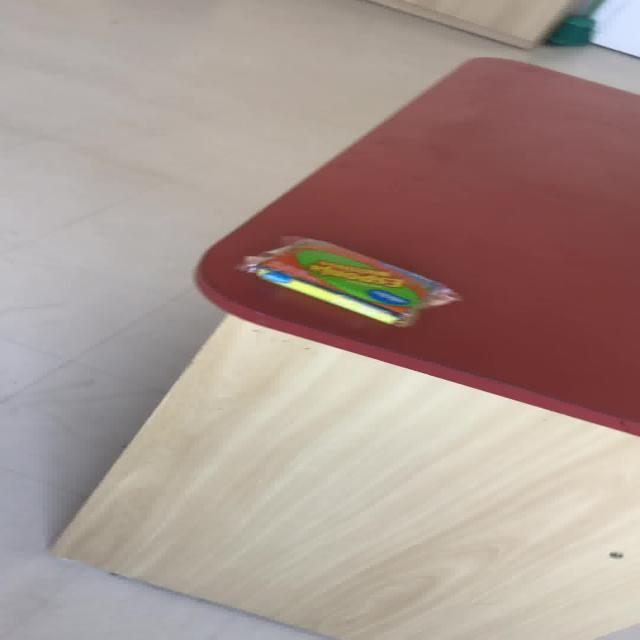sponge: (238, 234, 461, 328)
